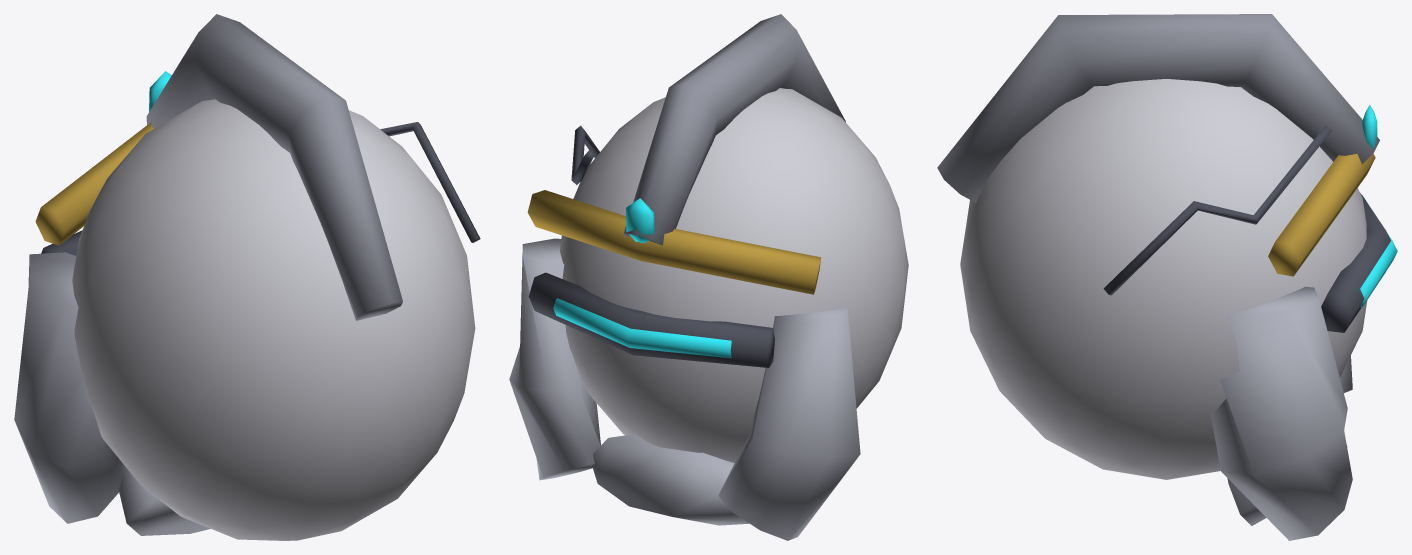
Rendered from sentinel_head.glb.
The picture shows the model from 3 angles, left to right: view 1: azimuth 30°, elevation 25°; view 2: azimuth 150°, elevation 25°; view 3: azimuth 270°, elevation 25°; orthographic projection. The views are drawn at different scales.
Visible parts, largest first — view 1: piece; view 2: piece; view 3: piece.
Boxes of the visible parts, x1,y1,x2,y2 form: piece: [14, 14, 480, 540]; piece: [509, 14, 908, 540]; piece: [937, 14, 1397, 540].
Size of the model in its own units: 0.2909 by 0.3632 by 0.3126.
